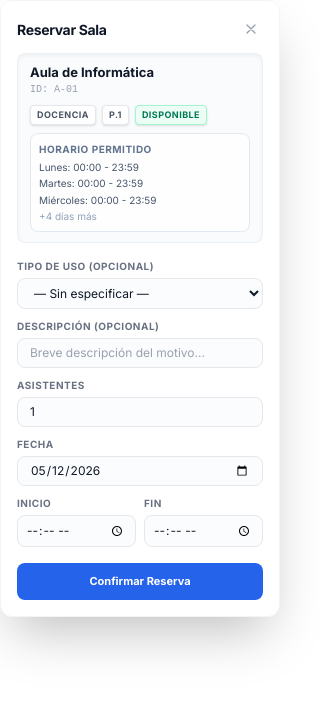
it: ReservationForm Component Tests › 4. Informa de éxito verde si el Componente completa exitosamente todo el Fetch de Backend
Type "10:00" into the time field named "horaInicio" below "Inicio" at (76,531), box [17,515,136,547]
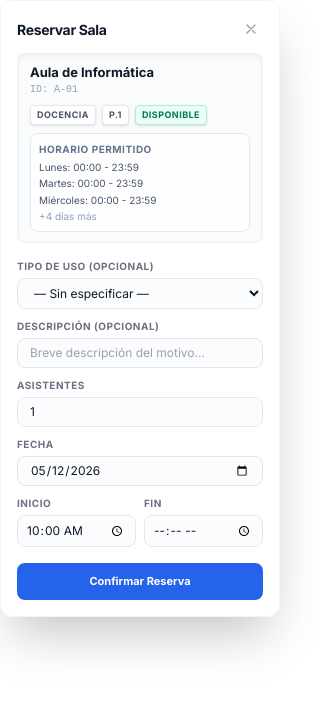
Type "12:00" into the time field named "horaFin" below "Fin" at (204,531), box [144,515,263,547]
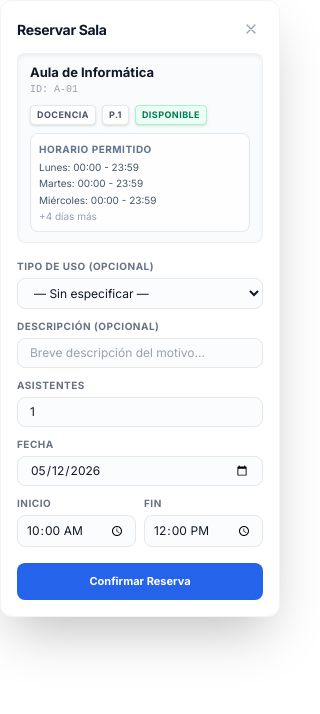
Click the button "Confirmar Reserva" at (140,582), box [17,563,263,600]
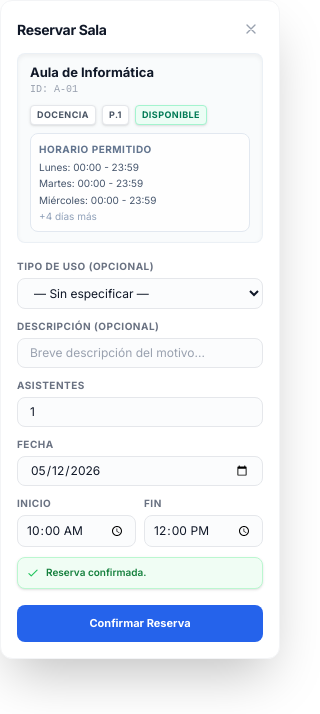
Now the text "Reserva confirmada." is shown, box [17,557,263,589]
